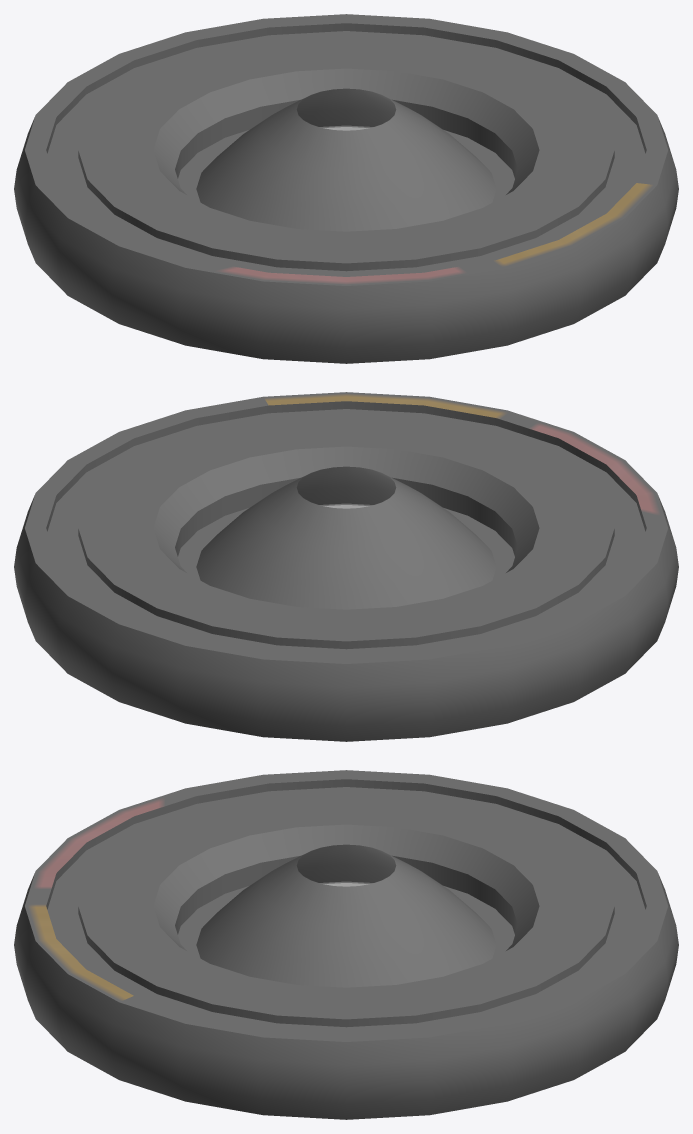
Rendered from Eridani_DockingMechanism_1.obj.
3 views of the same model, one above another, from view 1: azimuth 30°, elevation 25°; view 2: azimuth 150°, elevation 25°; view 3: azimuth 270°, elevation 25° (orthographic).
Parts seen in each view (by area): view 1: Eridani_DockingMechanism_1; view 2: Eridani_DockingMechanism_1; view 3: Eridani_DockingMechanism_1.
Part boxes in pixels (x1,y1,x2,y2): Eridani_DockingMechanism_1: [14, 14, 678, 363]; Eridani_DockingMechanism_1: [14, 392, 678, 741]; Eridani_DockingMechanism_1: [14, 770, 678, 1119].
Bounding box in the file's own units: 0.9688 × 0.19 × 0.9688.
